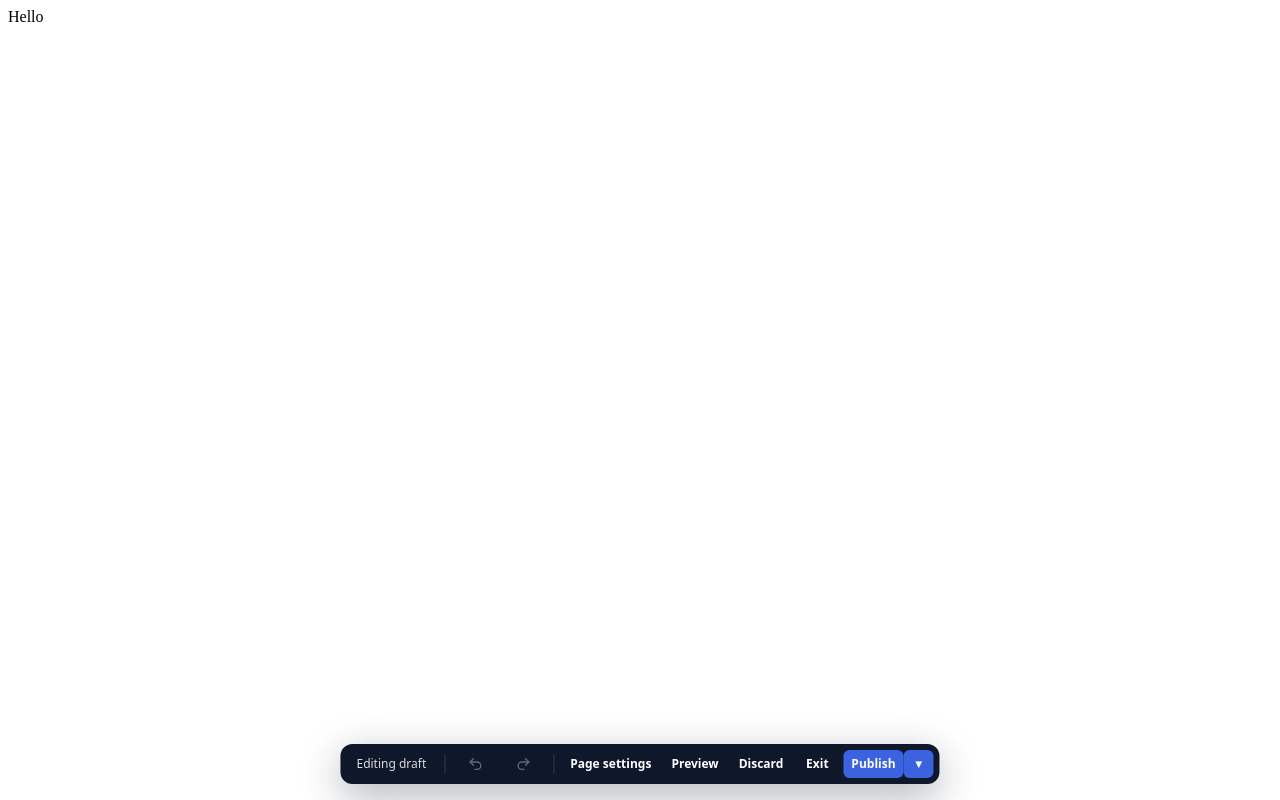
field conditions › hides the fields the data source says are hidden, and asks again after a change
This screenshot has width=1280, height=800.
Expected: the message with test id "onpage-status" reads "Editing draft", [356,755,426,772]
Click the button with test id "onpage-page-settings-open" at [611, 764], box [562,750,659,778]
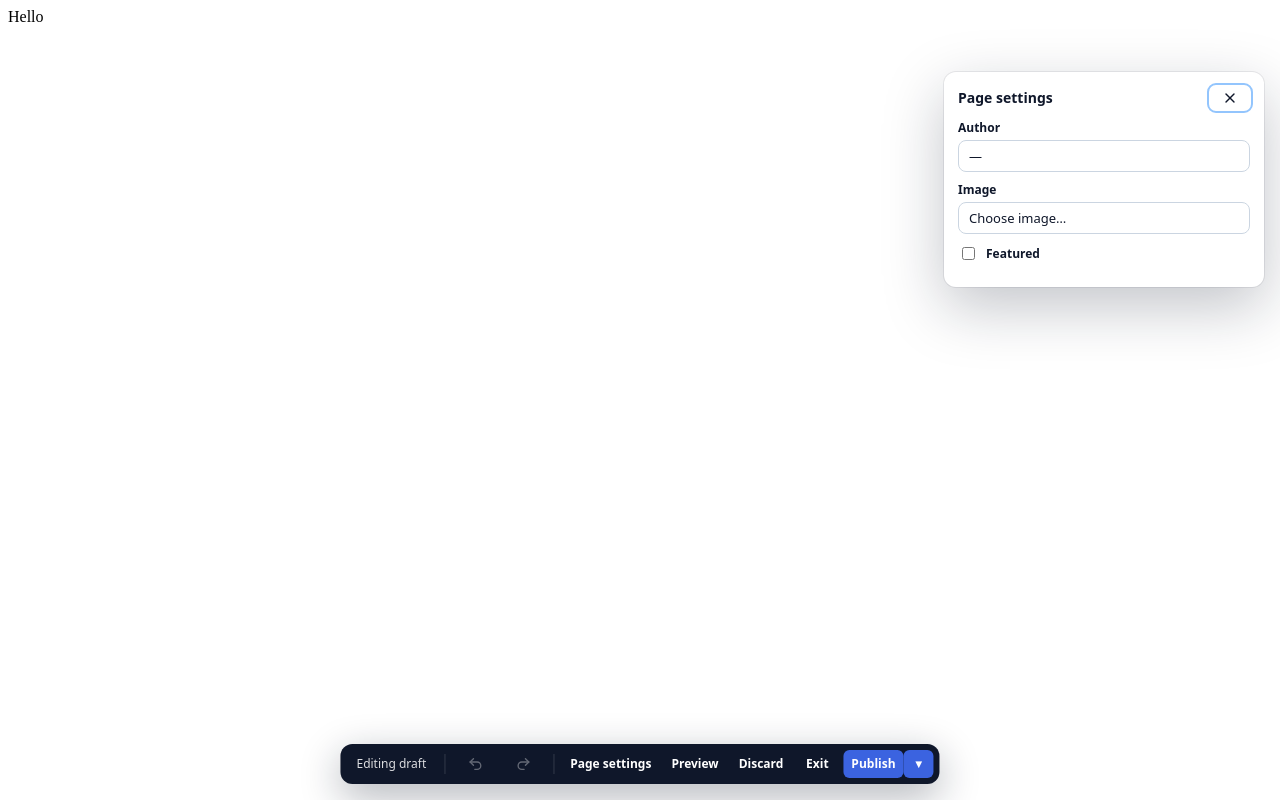
Expected: the element with test id "onpage-page-settings" does not show "Badge"
Click the checkbox labelled "Featured" at [968, 254], box [962,247,975,260]
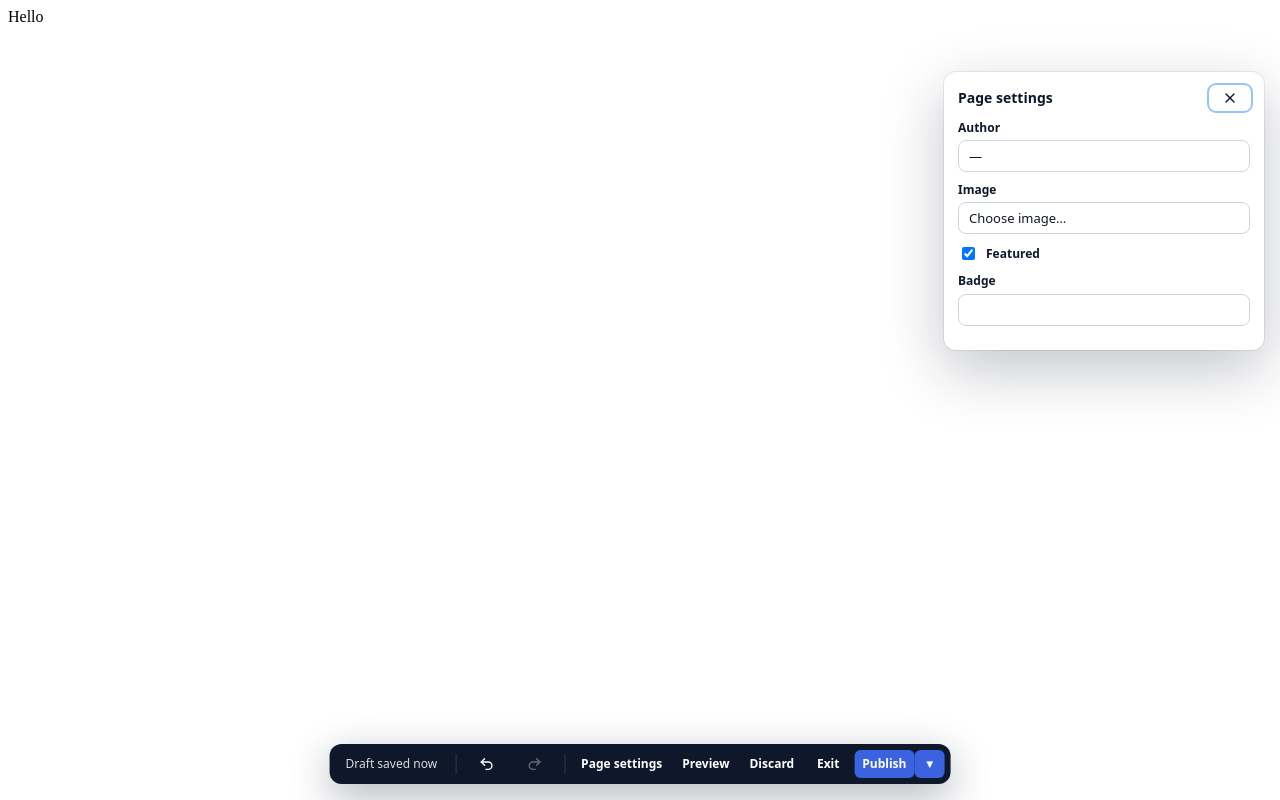
Expected: the dialog with test id "onpage-page-settings" shows "Badge", [958,272,996,289]
